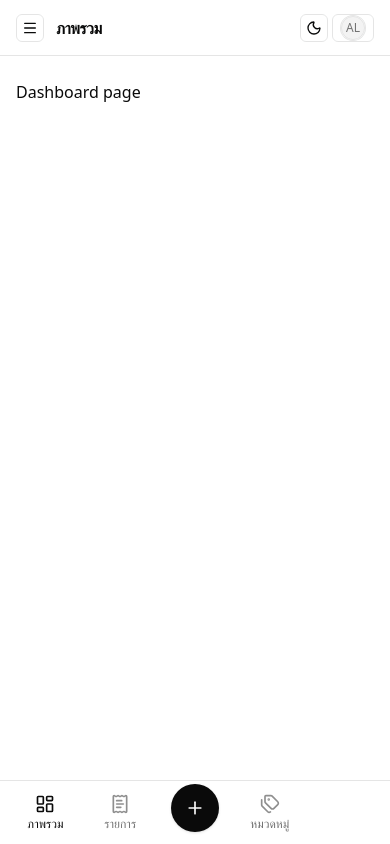
Test case: AppLayout › clicking the MobileTabBar Add button navigates to /transactions
The width and height of the screenshot is (390, 844).
Click the button named "เพิ่มรายการใหม่": (195,808) left=171, top=784, right=219, bottom=832
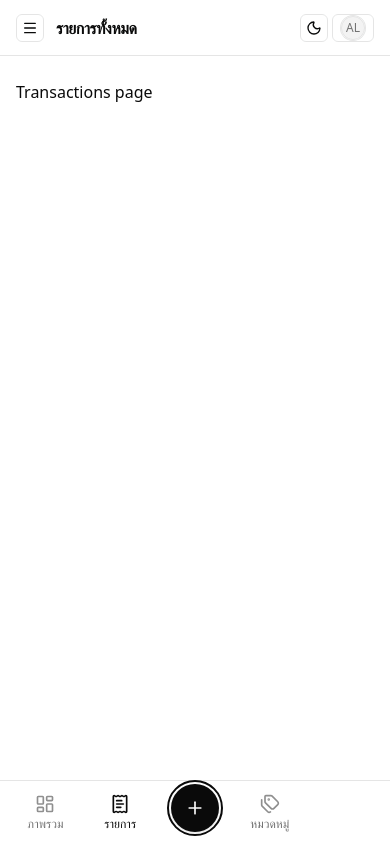
Result: the text with test id "page" reads "Transactions page" at left=16, top=81, right=152, bottom=103
